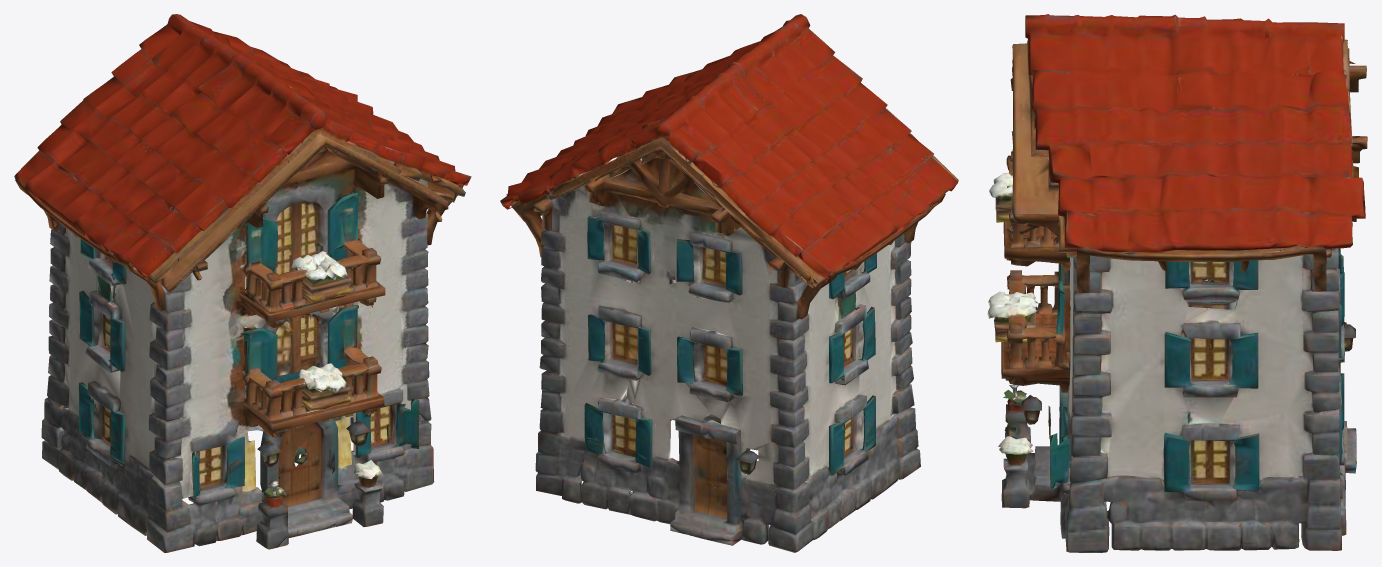
The model's file is candidate.glb.
3 views of the same model, side by side, from view 1: azimuth 30°, elevation 25°; view 2: azimuth 150°, elevation 25°; view 3: azimuth 270°, elevation 25° (orthographic). The views are drawn at different scales.
Visible parts, largest first — view 1: alpine__tower_3__native_mobile; view 2: alpine__tower_3__native_mobile; view 3: alpine__tower_3__native_mobile.
Boxes of the visible parts, x1,y1,x2,y2 form: alpine__tower_3__native_mobile: (14, 14, 471, 552); alpine__tower_3__native_mobile: (500, 14, 958, 552); alpine__tower_3__native_mobile: (987, 14, 1367, 552).
Size of the model in its own units: 0.8466 by 1 by 0.7356.
Materials: 1 (1 with a texture image).
